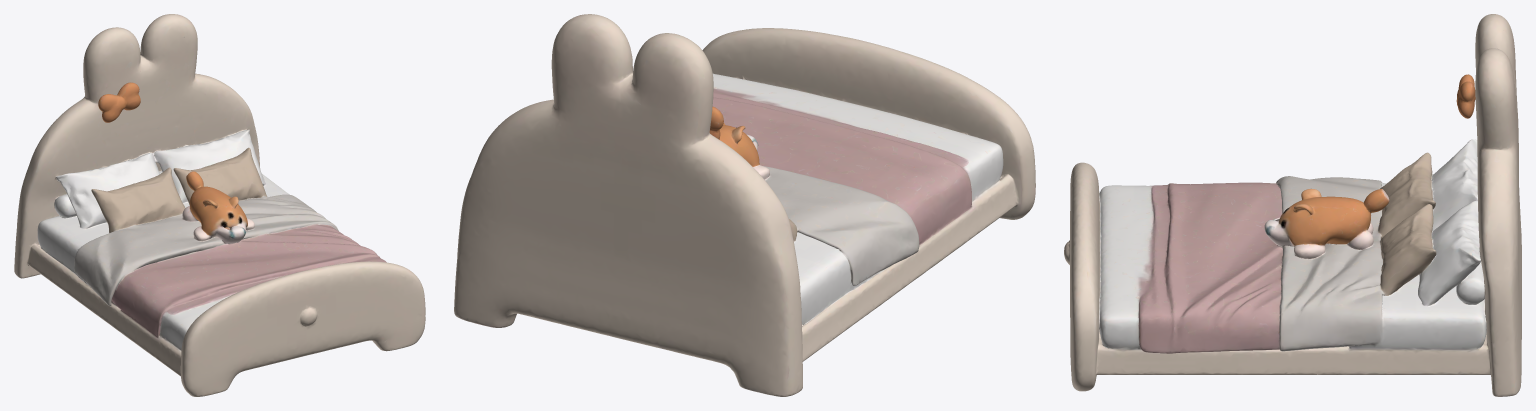
Rendered from 0Sv4xpH08zMv-nKNXjnBn.glb.
3 views of the same model, side by side, from view 1: azimuth 30°, elevation 25°; view 2: azimuth 150°, elevation 25°; view 3: azimuth 270°, elevation 25° (orthographic). The views are drawn at different scales.
Parts seen in each view (by area): view 1: world; view 2: world; view 3: world.
Part boxes in pixels (bbox=[...]): world: bbox=[14, 14, 425, 396]; world: bbox=[454, 14, 1035, 396]; world: bbox=[1064, 14, 1521, 396].
Size of the model in its own units: 0.7755 by 0.6982 by 1.
1 material, 1 textured.
